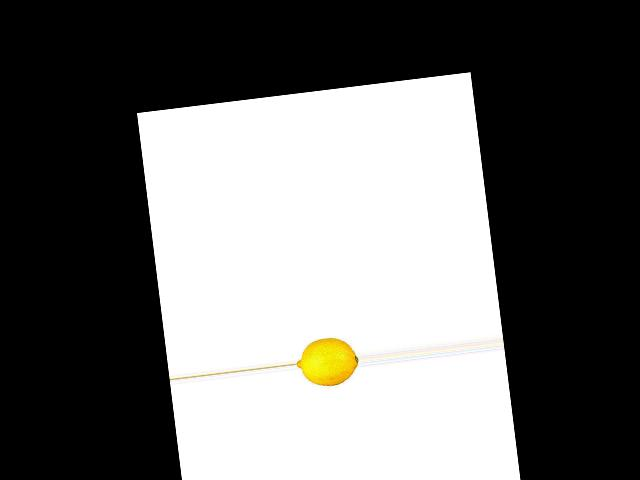lemon: (294, 335, 360, 389)
